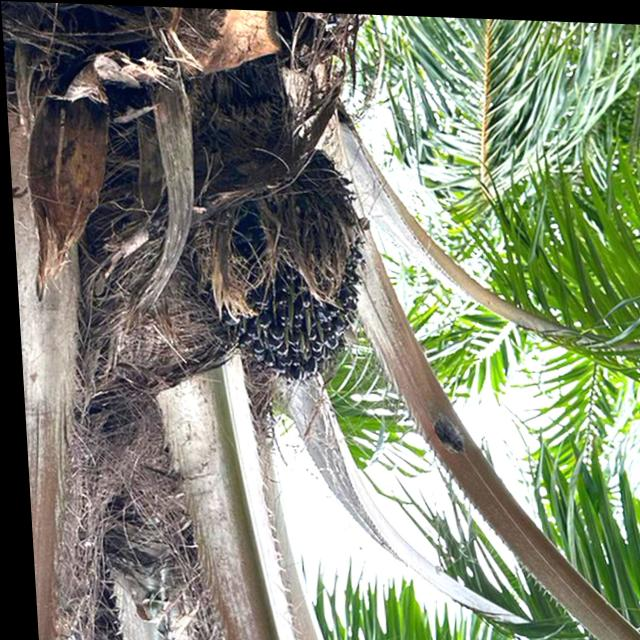unripe: (188, 134, 378, 387)
